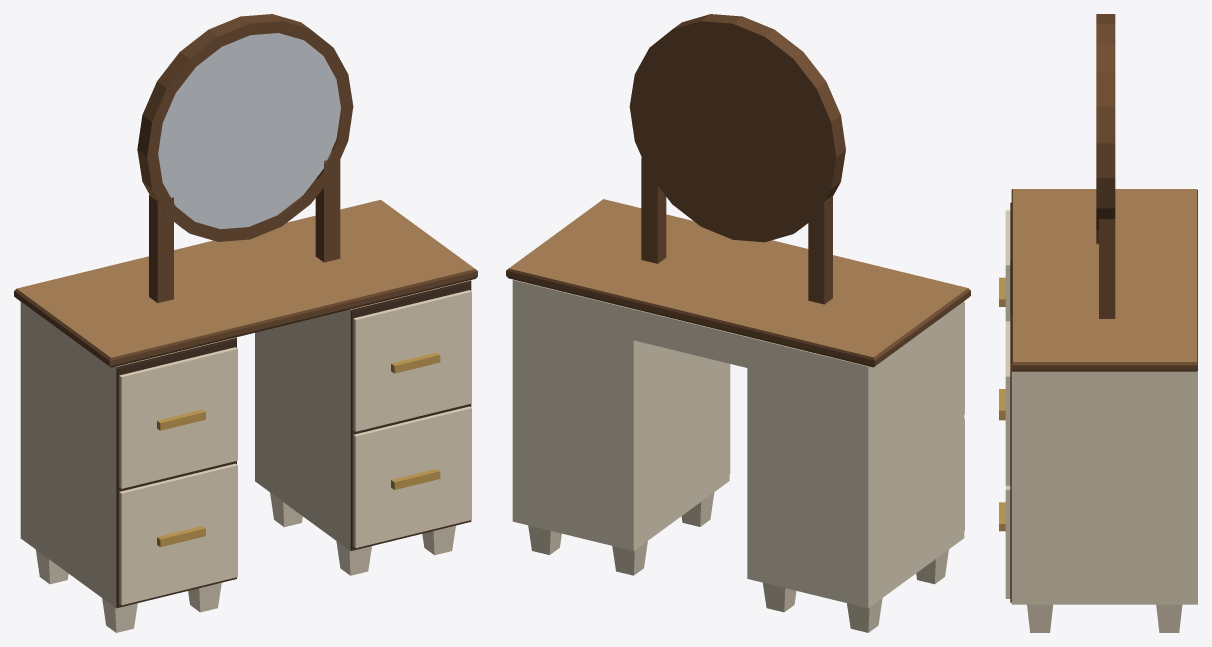
Rendered from FN_Table_Dressing.glb.
The picture shows the model from 3 angles, left to right: view 1: azimuth 30°, elevation 25°; view 2: azimuth 150°, elevation 25°; view 3: azimuth 270°, elevation 25°; orthographic projection. The views are drawn at different scales.
Parts seen in each view (by area): view 1: FN_Table_Dressing; view 2: FN_Table_Dressing; view 3: FN_Table_Dressing.
Part boxes in pixels (x1,y1,x2,y2): FN_Table_Dressing: [14, 14, 477, 632]; FN_Table_Dressing: [506, 14, 970, 632]; FN_Table_Dressing: [999, 14, 1197, 632].
Size of the model in its own units: 1 by 1.41 by 0.48.
Materials: 1 (1 with a texture image).
